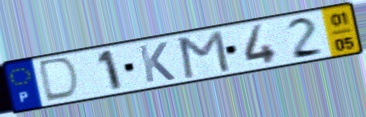1: (96, 47, 125, 93)
2: (282, 16, 325, 61)
4: (242, 22, 280, 66)
D: (39, 55, 83, 104)
K: (136, 40, 178, 85)
M: (177, 28, 232, 81)
